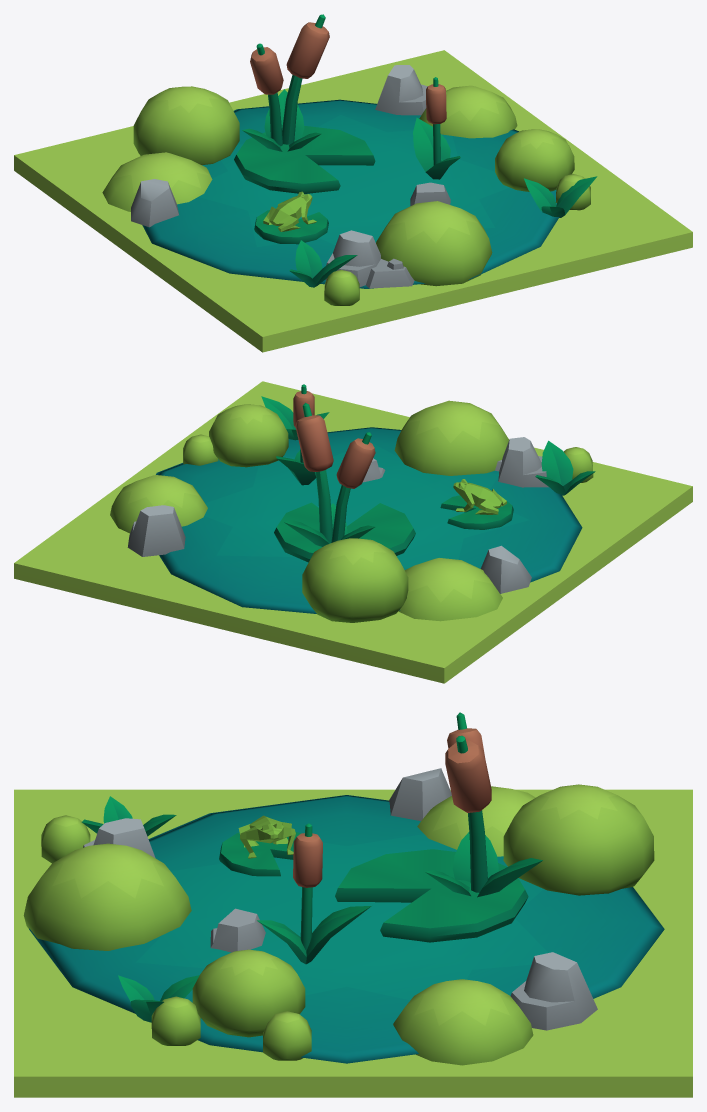
Rendered from pond.glb.
The picture shows the model from 3 angles, top to bottom: view 1: azimuth 30°, elevation 25°; view 2: azimuth 150°, elevation 25°; view 3: azimuth 270°, elevation 25°; orthographic projection. The views are drawn at different scales.
Parts seen in each view (by area): view 1: Pond; view 2: Pond; view 3: Pond.
Part boxes in pixels (x1,y1,x2,y2): Pond: (14, 14, 692, 352); Pond: (14, 381, 692, 683); Pond: (14, 712, 692, 1097).
Bounding box in the file's own units: 0.29 × 0.1265 × 0.29.
2 materials, 2 textured.
